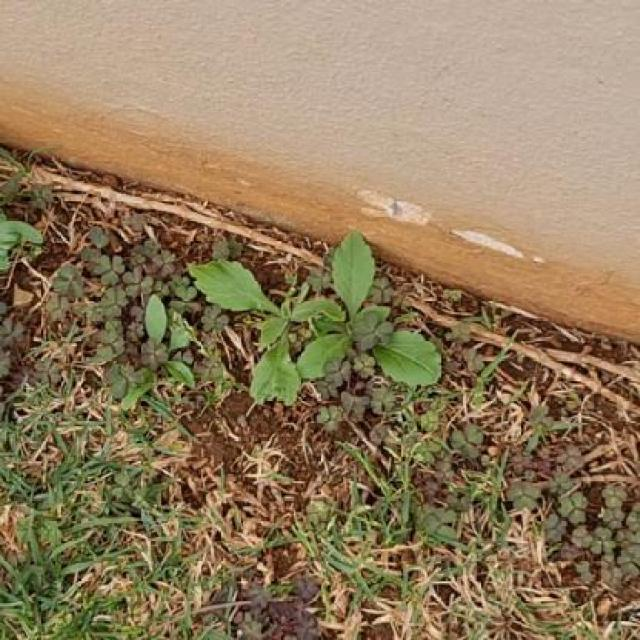weed: (189, 232, 442, 404), (0, 214, 42, 272)
